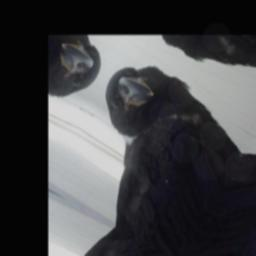Crow: (53, 47, 256, 256)
